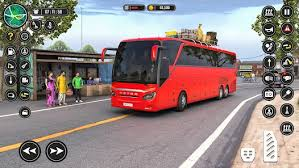bus: (99, 35, 237, 115)
